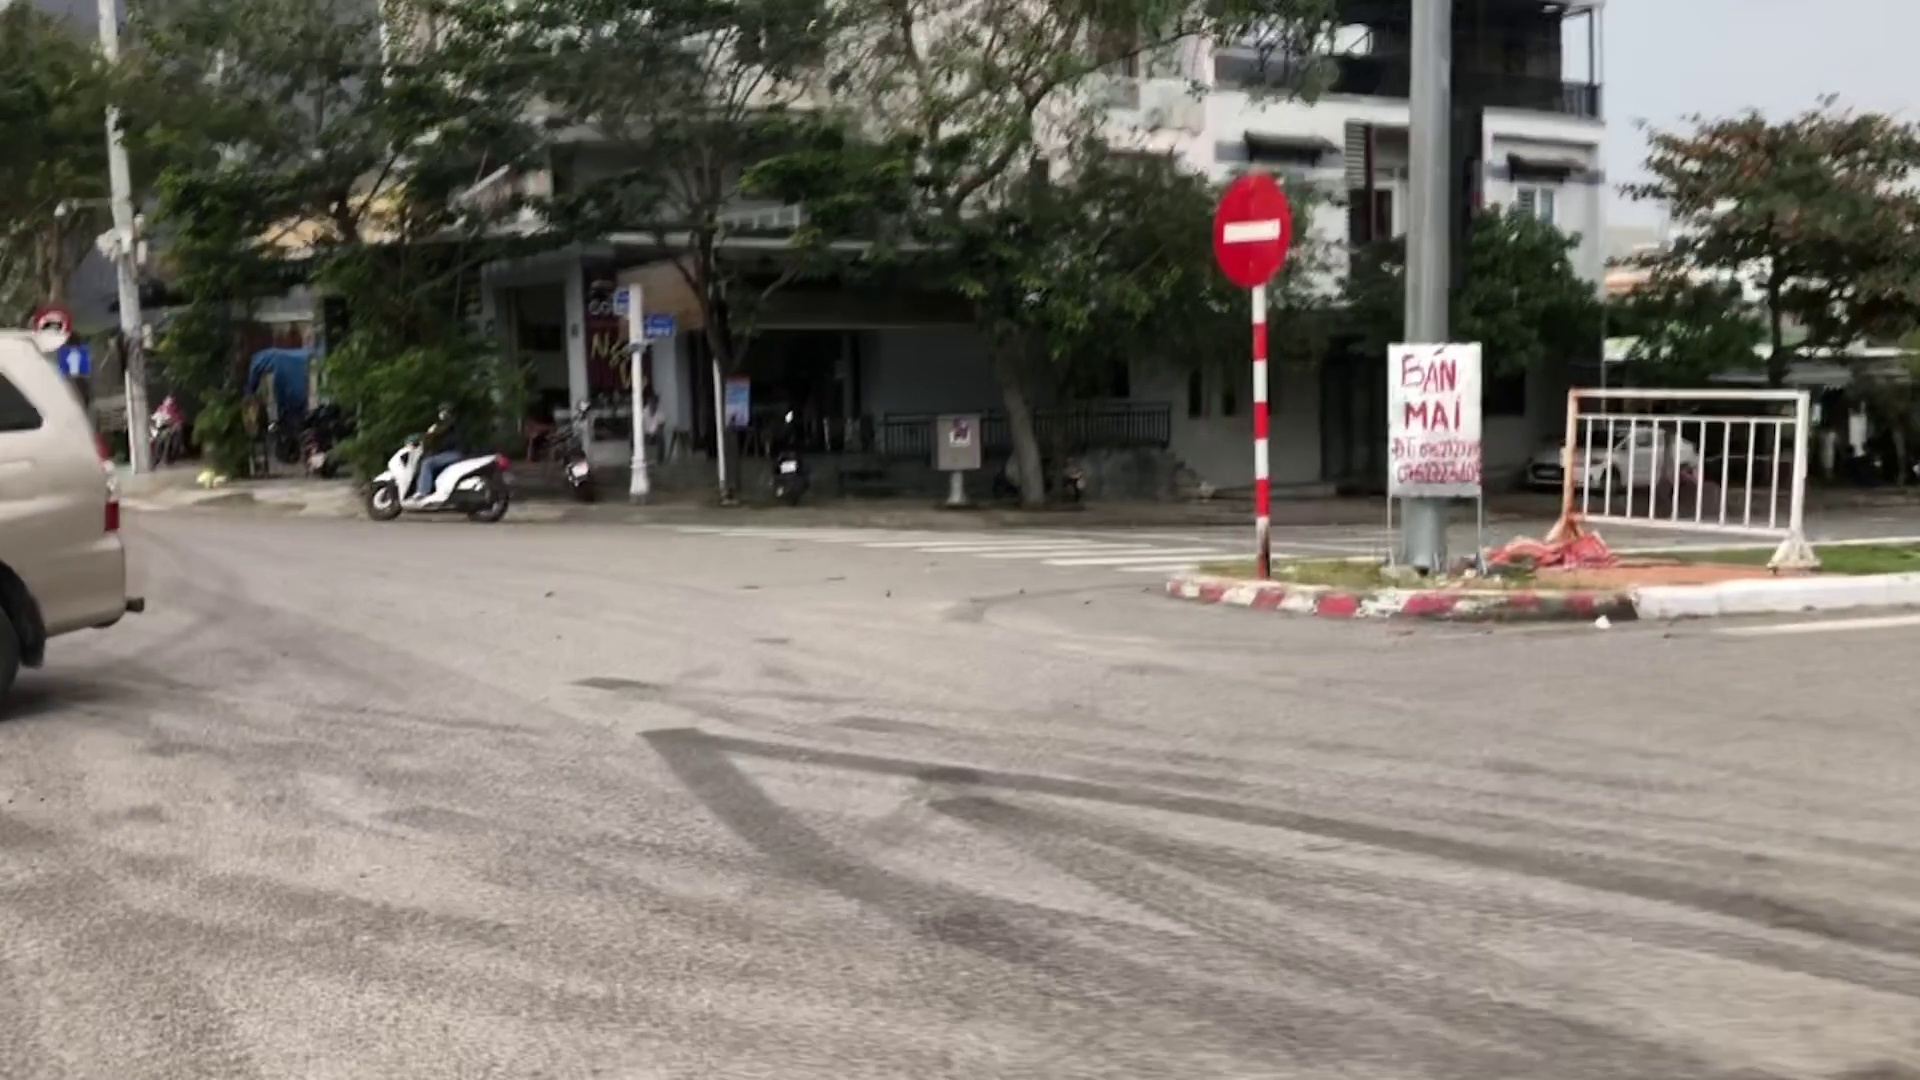Cam di nguoc chieu: (1207, 171, 1291, 287)
